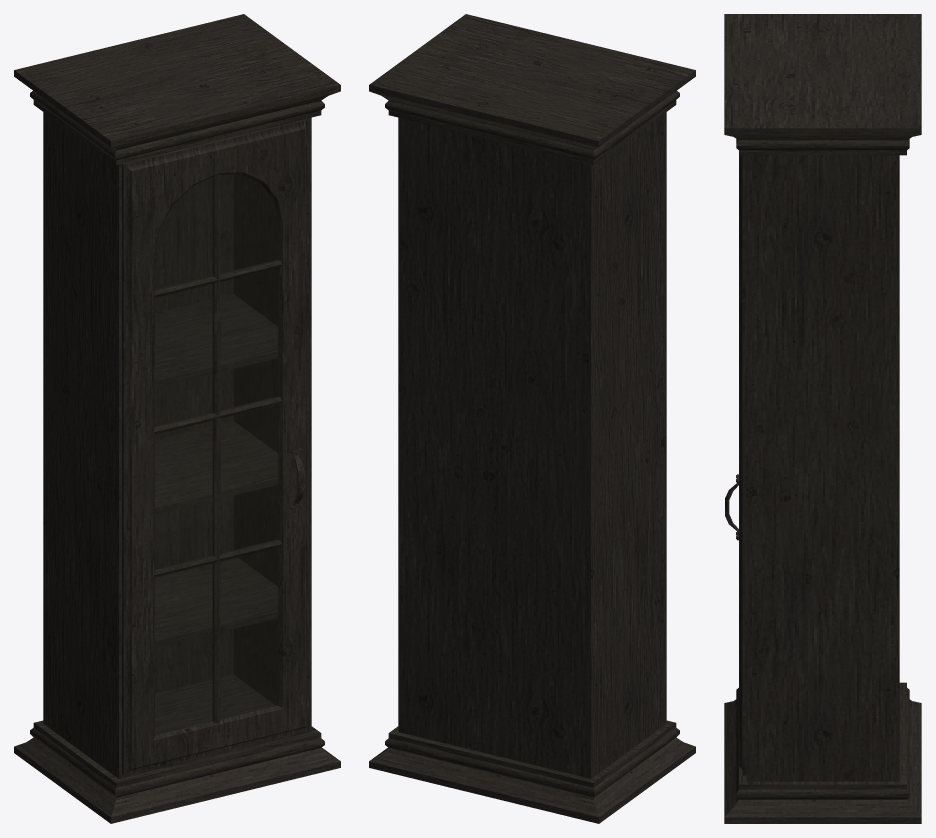
Rendered from display_cabinet_mp_1.glb.
3 renders of one model, left to right at view 1: azimuth 30°, elevation 25°; view 2: azimuth 150°, elevation 25°; view 3: azimuth 270°, elevation 25°, orthographic.
Visible parts, largest first — view 1: display_cabinet_mp_1, display_cabinet_mp_1_door; view 2: display_cabinet_mp_1; view 3: display_cabinet_mp_1, display_cabinet_mp_1_door.
Boxes of the visible parts, box(x1,y1,x2,y2) form: display_cabinet_mp_1: box(14, 14, 340, 823); display_cabinet_mp_1_door: box(122, 118, 309, 775); display_cabinet_mp_1: box(369, 14, 695, 823); display_cabinet_mp_1: box(724, 14, 921, 823); display_cabinet_mp_1_door: box(725, 155, 746, 775).
Bounding box in the file's own units: 0.74 × 2.1 × 0.54.
Materials: 3 (3 with a texture image).
